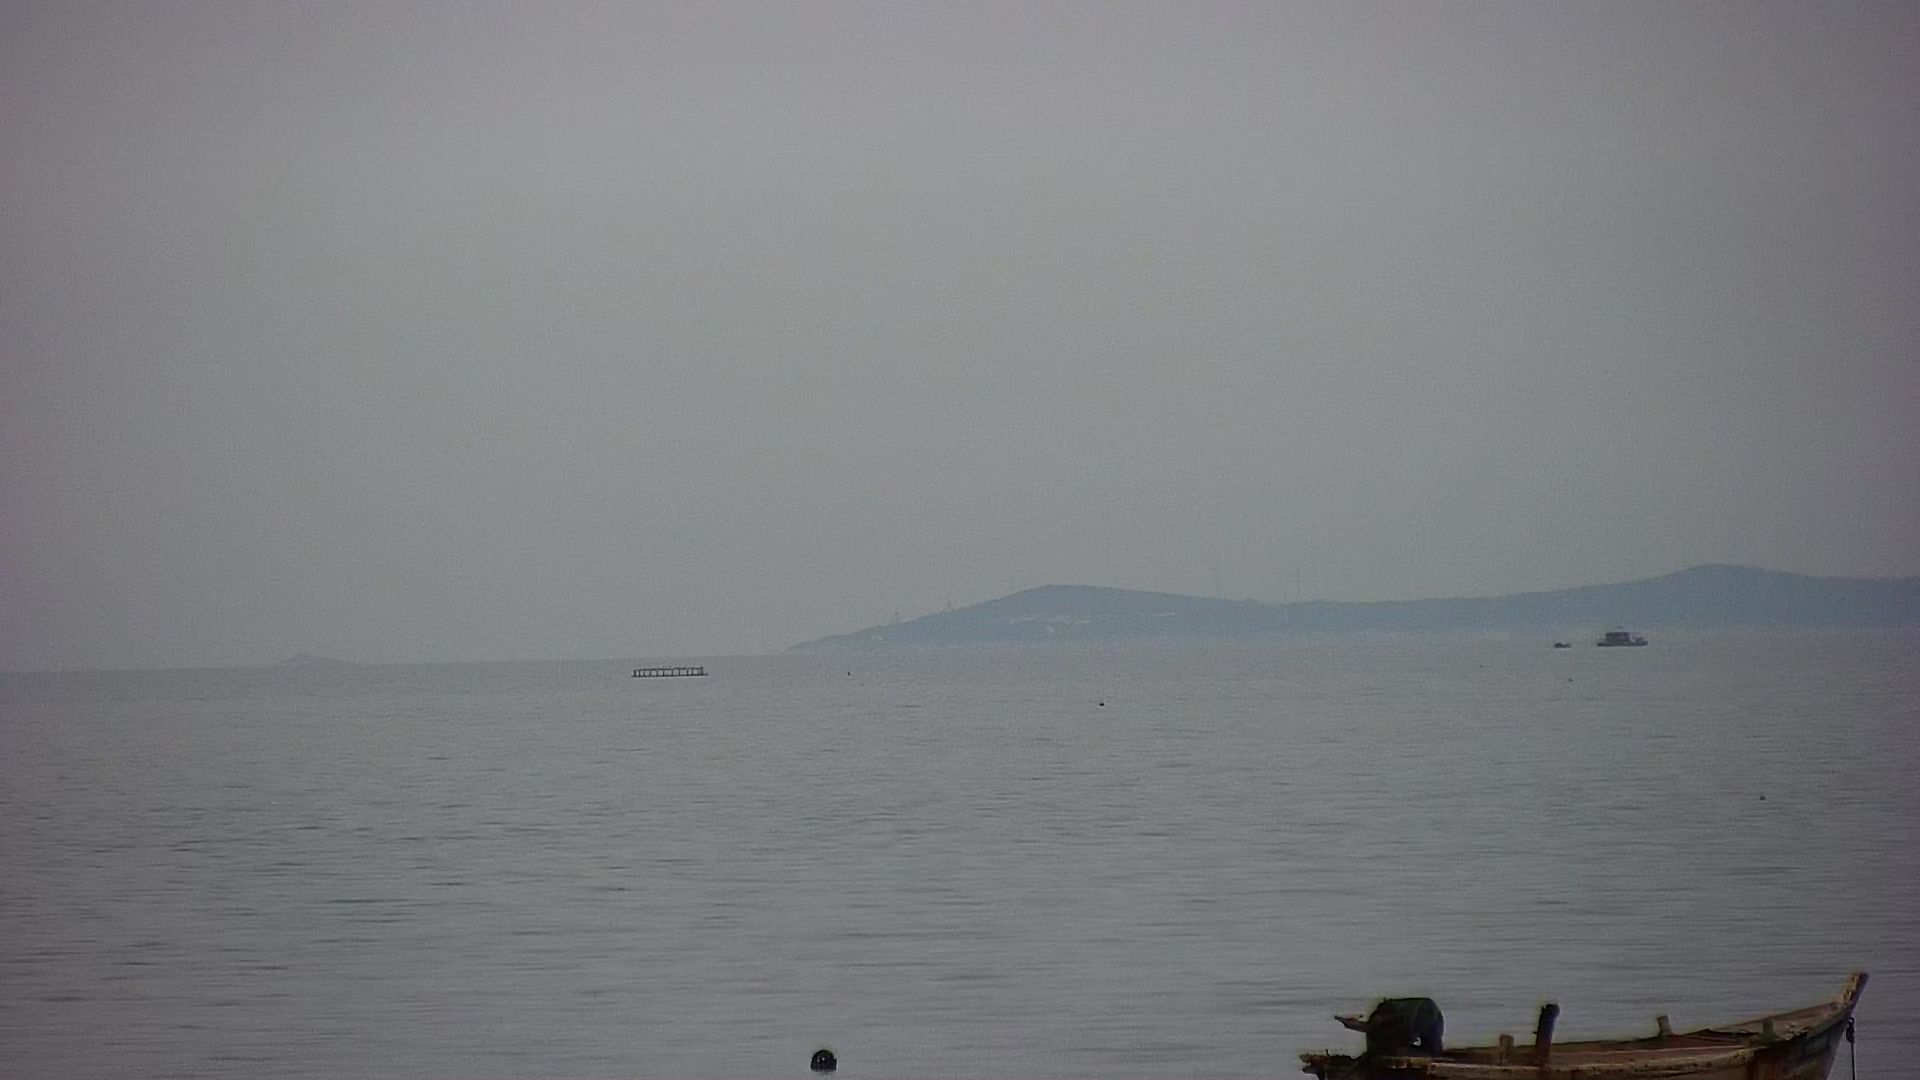boat: (1302, 965, 1875, 1080)
platform: (628, 661, 713, 683)
